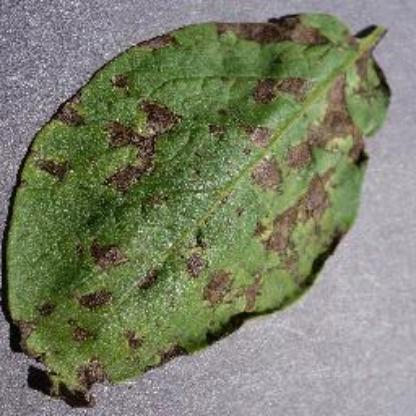Early-Blight: (3, 6, 414, 410)
